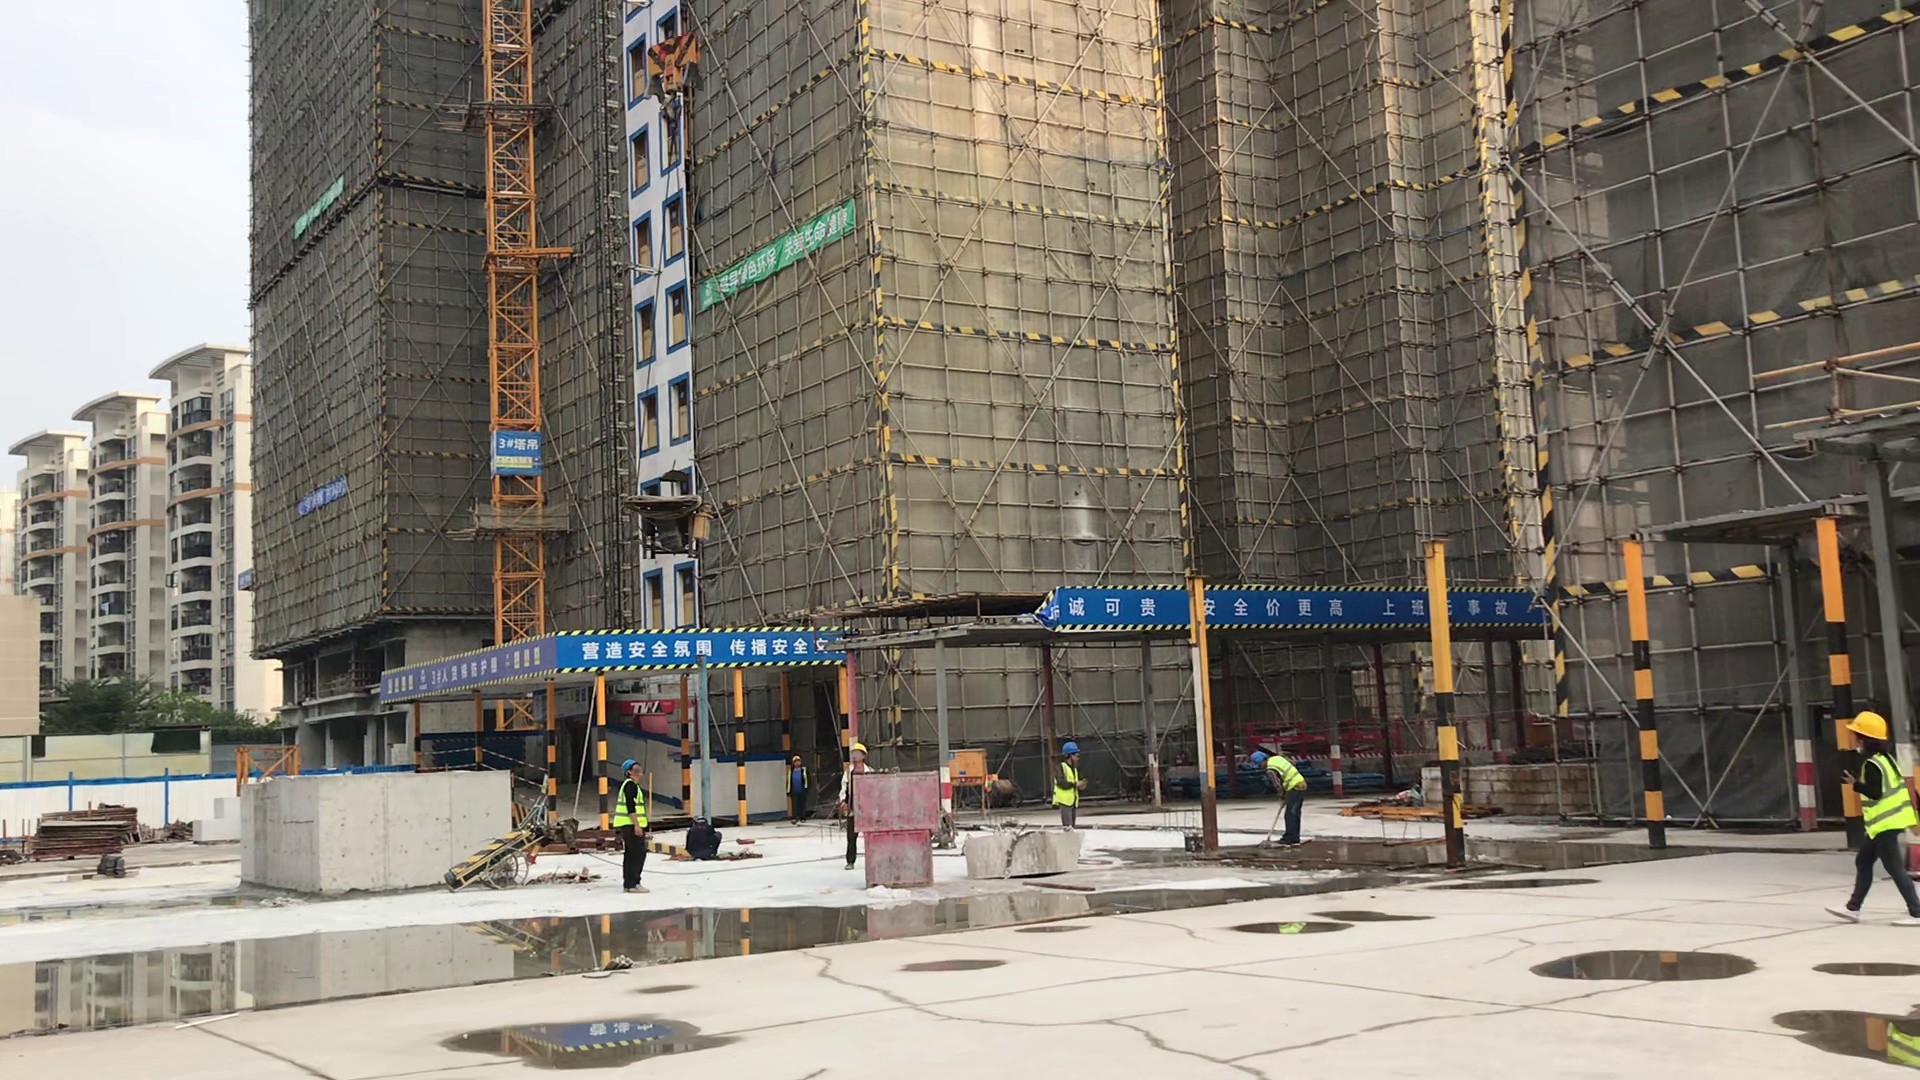ebox: (951, 747, 988, 785)
fence: (1250, 711, 1576, 761)
helmet: (619, 759, 641, 775), (847, 744, 869, 757), (1060, 743, 1082, 755), (1251, 751, 1268, 769), (790, 753, 803, 763)
hook: (645, 27, 709, 130)
hopper: (961, 826, 1087, 881)
person: (1819, 701, 1920, 929), (600, 756, 665, 897), (1242, 743, 1307, 850), (834, 743, 888, 870), (1047, 743, 1093, 831), (779, 750, 815, 824)
slogan: (1050, 567, 1552, 626), (705, 200, 859, 316), (381, 633, 554, 706), (555, 624, 844, 665), (296, 173, 345, 238), (298, 479, 349, 517)
vest: (609, 780, 649, 826), (1263, 760, 1307, 792), (1055, 762, 1079, 807)
